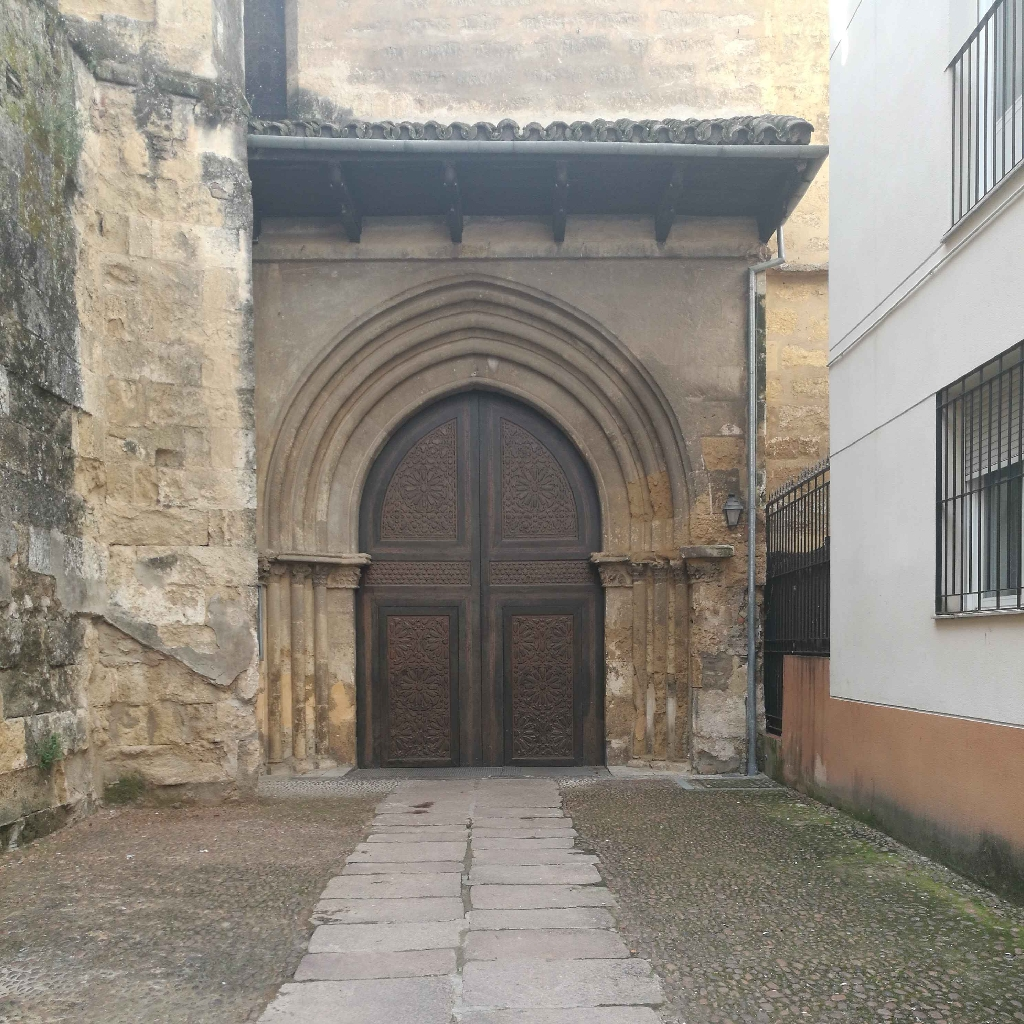arco-apuntado: (359, 362, 606, 557)
